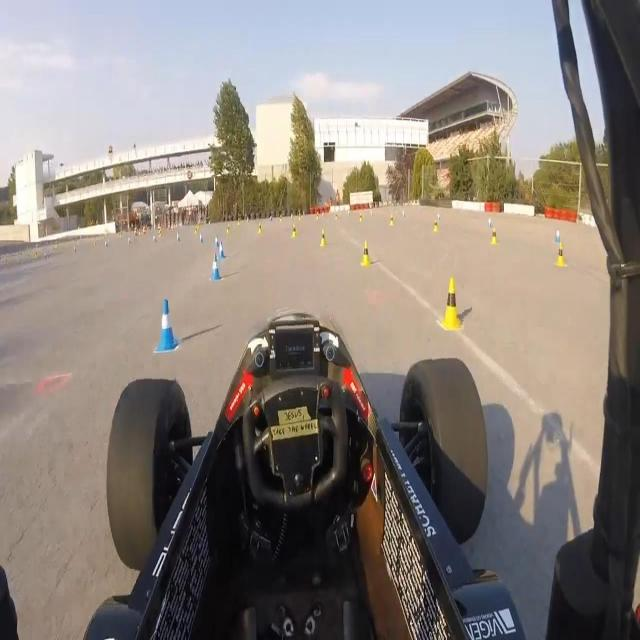blue_cone: (157, 297, 180, 351), (209, 253, 222, 282), (218, 242, 226, 258), (555, 226, 561, 243), (215, 234, 220, 248)
yellow_cone: (440, 276, 462, 331), (555, 242, 567, 268), (362, 241, 372, 265), (490, 225, 498, 247), (321, 228, 327, 248), (433, 217, 439, 234), (389, 213, 395, 228), (292, 223, 297, 239)
